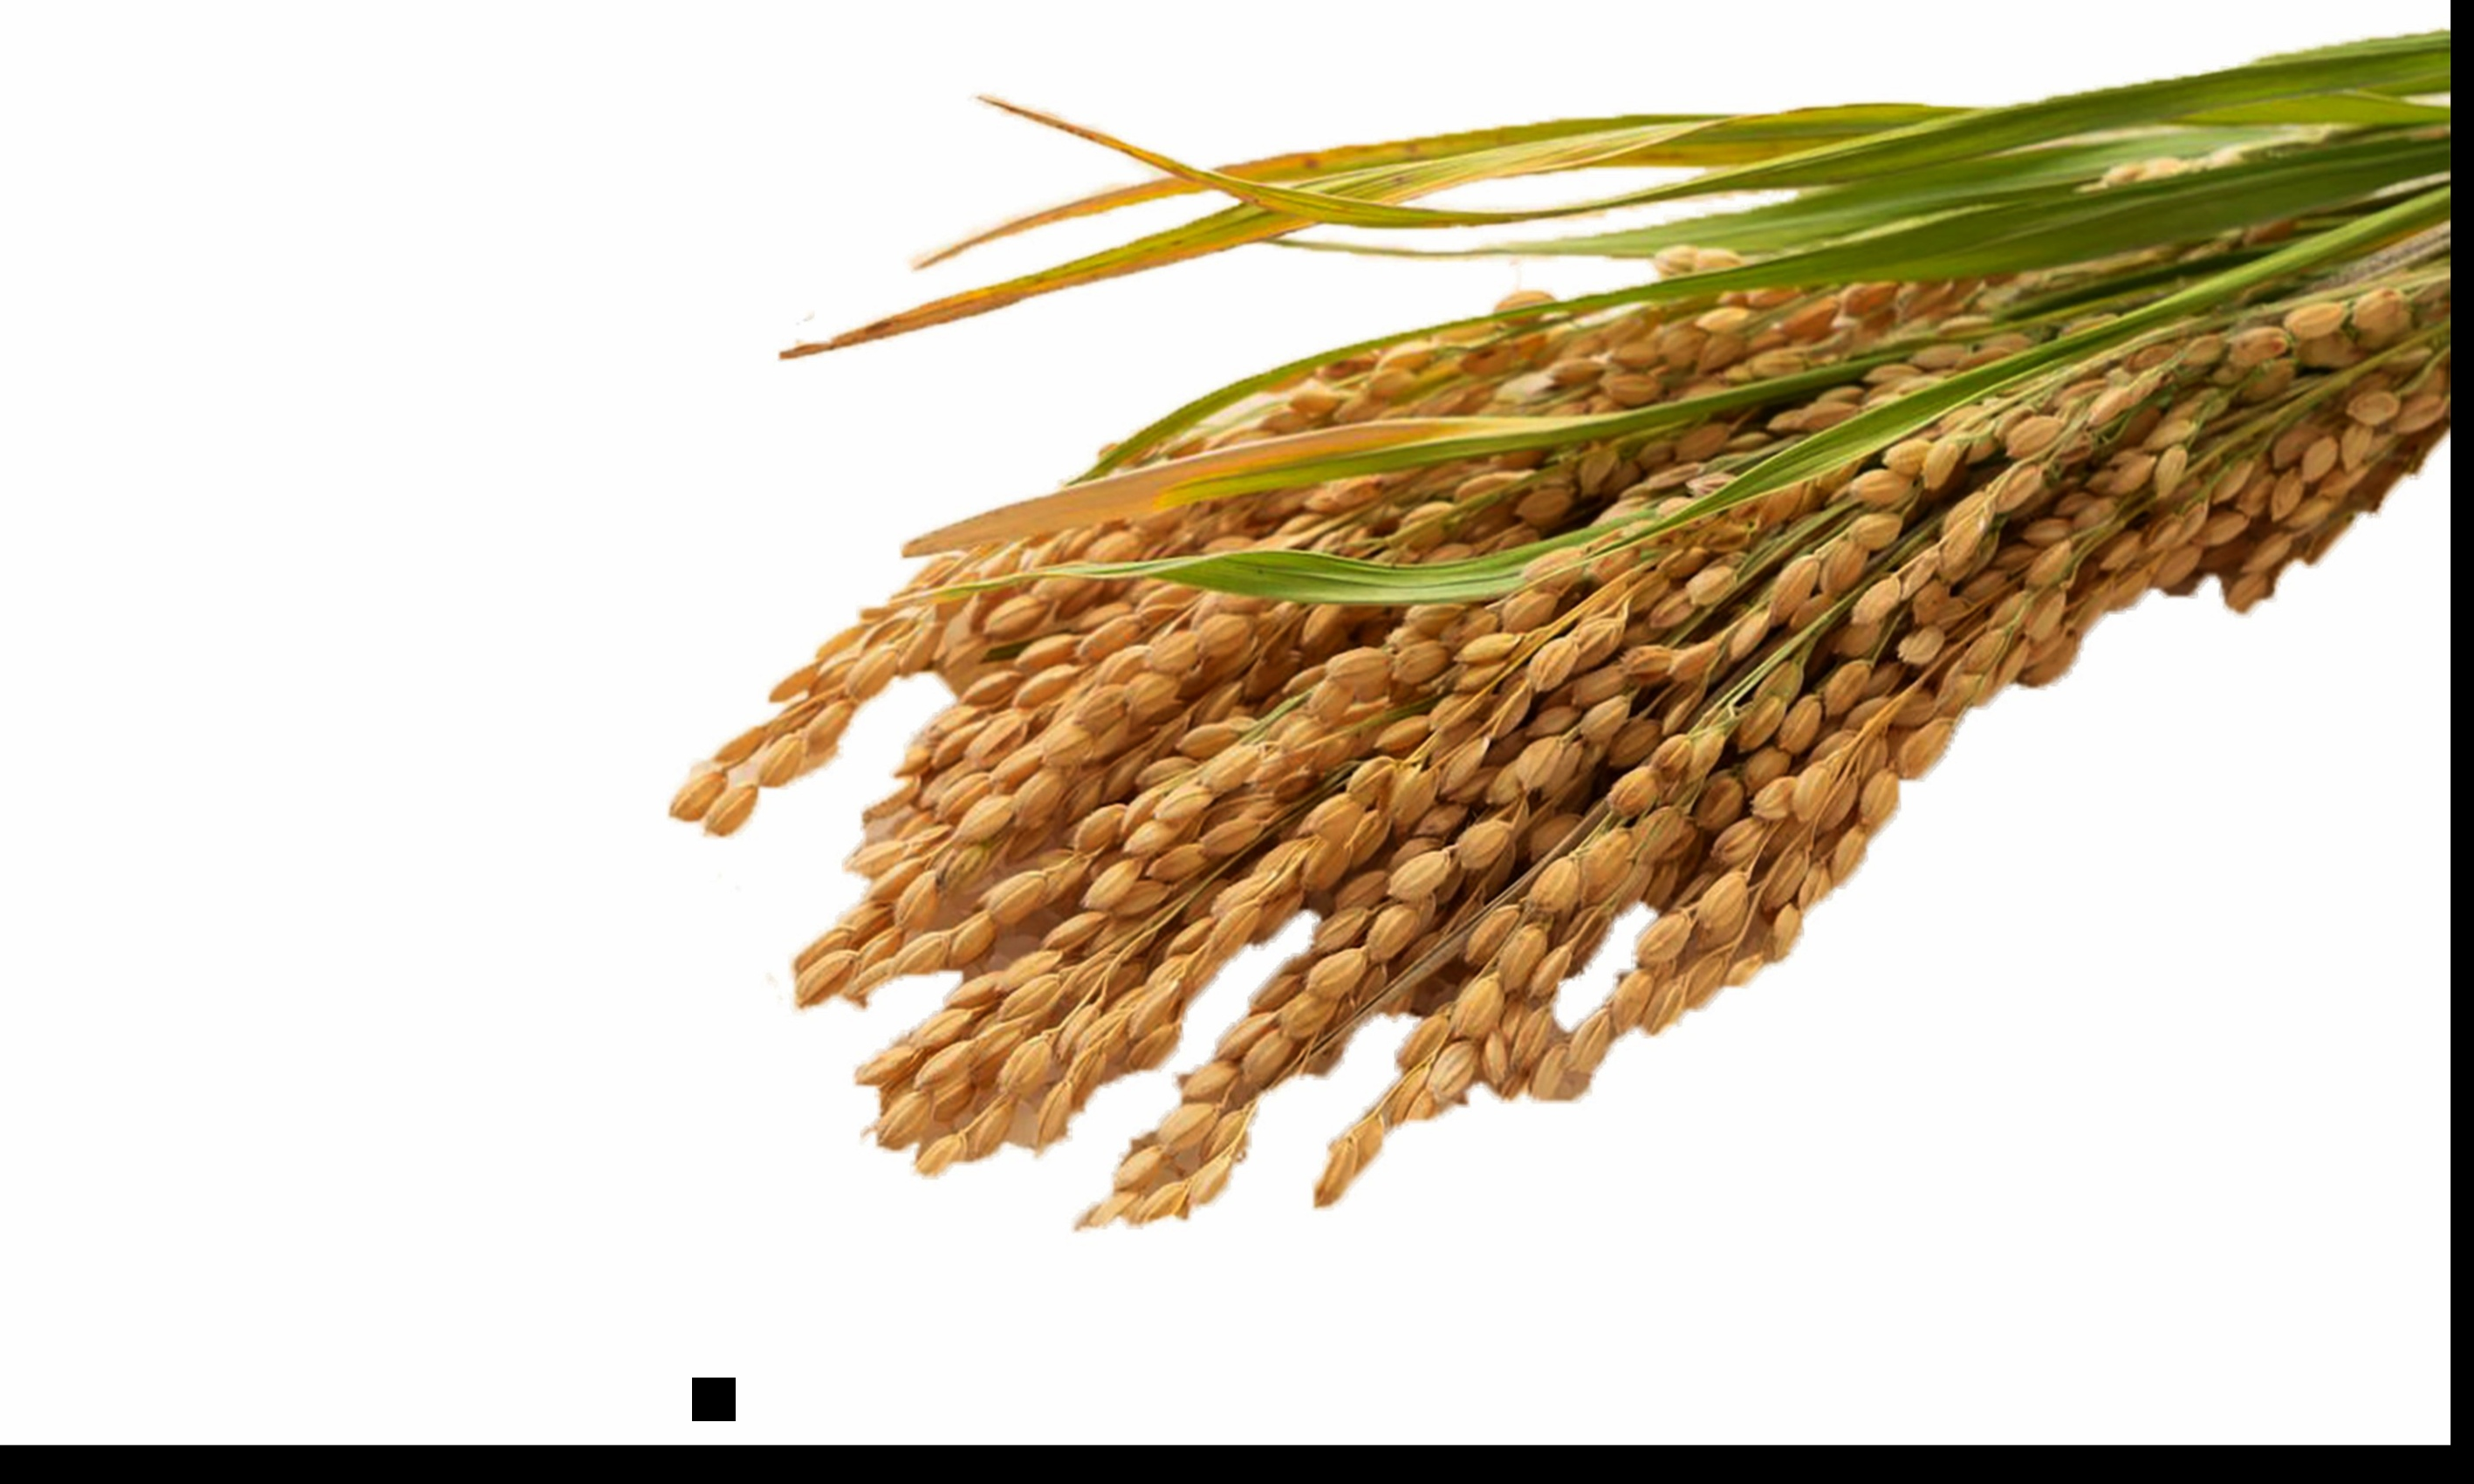rice: (622, 150, 2447, 1254)
